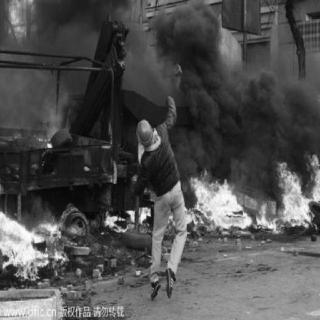Fire: (42, 136, 56, 154)
other: (133, 114, 156, 150)
